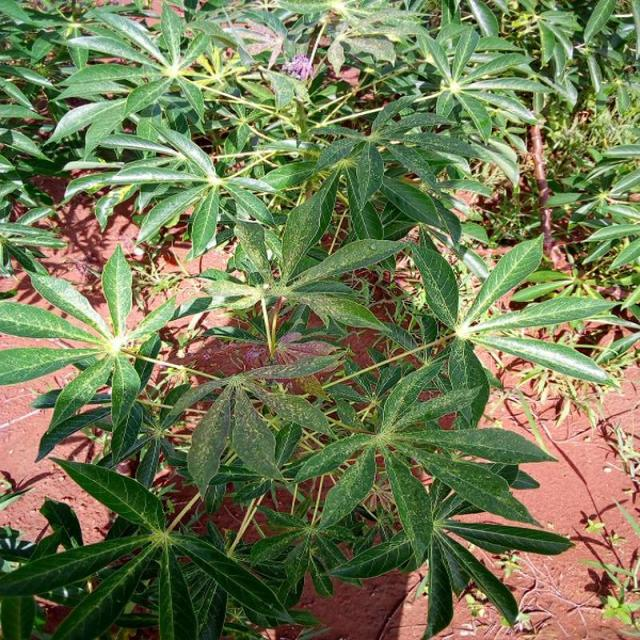cassava leaf: (1, 1, 626, 637)
